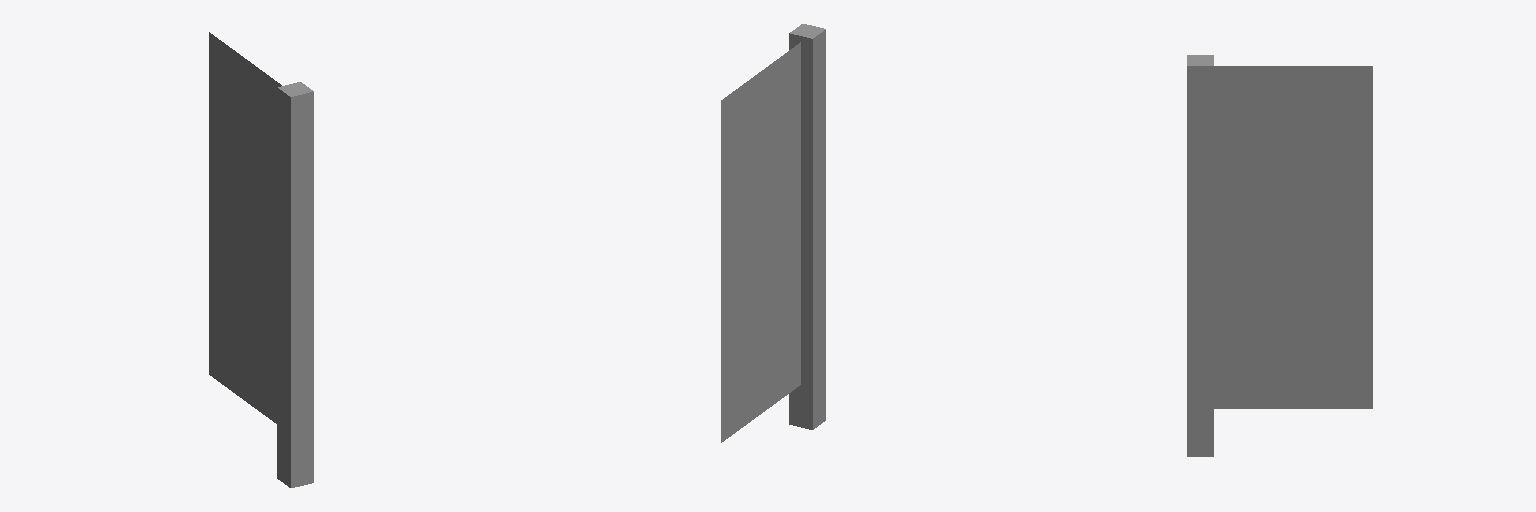
The model's file is teamFlag.obj.
3 renders of one model, left to right at view 1: azimuth 30°, elevation 25°; view 2: azimuth 150°, elevation 25°; view 3: azimuth 270°, elevation 25°, orthographic.
Parts seen in each view (by area): view 1: Flag, Cube; view 2: Flag, Cube; view 3: Flag, Cube.
Boxes of the visible parts, box(x1,y1,x2,y2) form: Flag: box(209, 32, 281, 423); Cube: box(277, 82, 313, 487); Flag: box(721, 42, 800, 442); Cube: box(789, 24, 825, 429); Flag: box(1214, 66, 1372, 408); Cube: box(1187, 55, 1213, 456).
Bounding box in the file's own units: 0.125 × 2 × 0.8625.